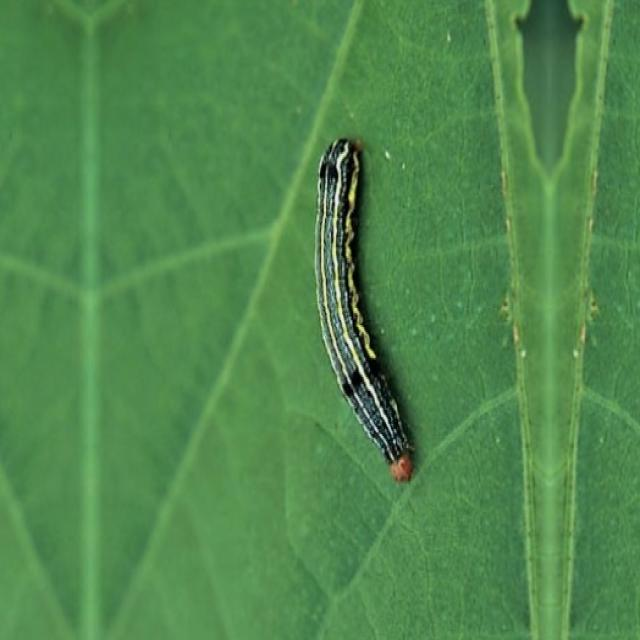armyworm: (313, 135, 415, 483)
